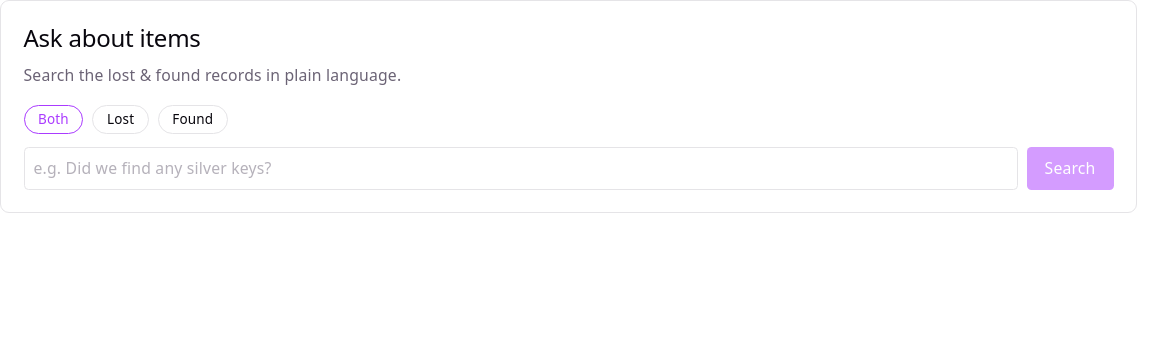
Test: <ItemSearchPanel /> › shows an error message when the search request fails
The width and height of the screenshot is (1152, 342).
Step 1. Type "anything" into the field named "search query" → (521,169), box [24,147,1018,190]
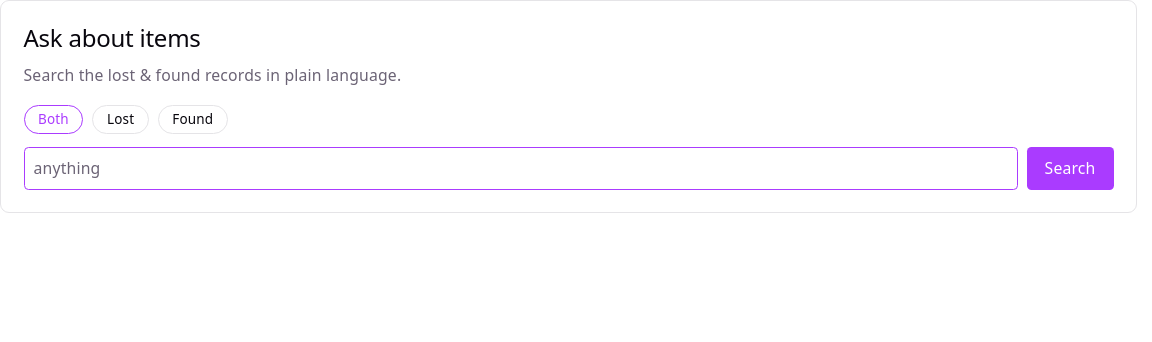
Step 2. Click the button "Search" → (1070,169), box [1027,147,1114,190]
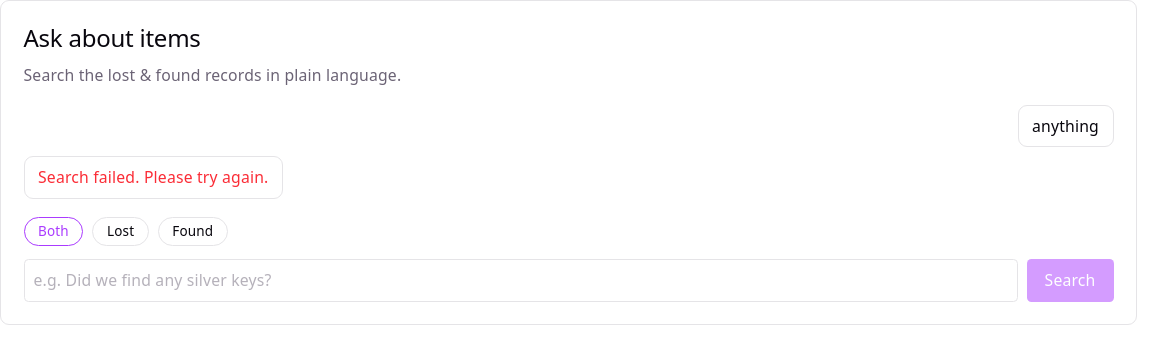
Expected: the text "Search failed. Please try again." is shown, [38,166,268,189]
